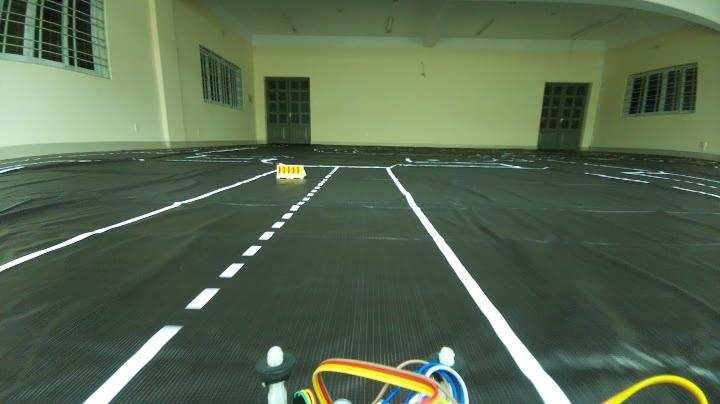roadblock: (274, 158, 304, 183)
